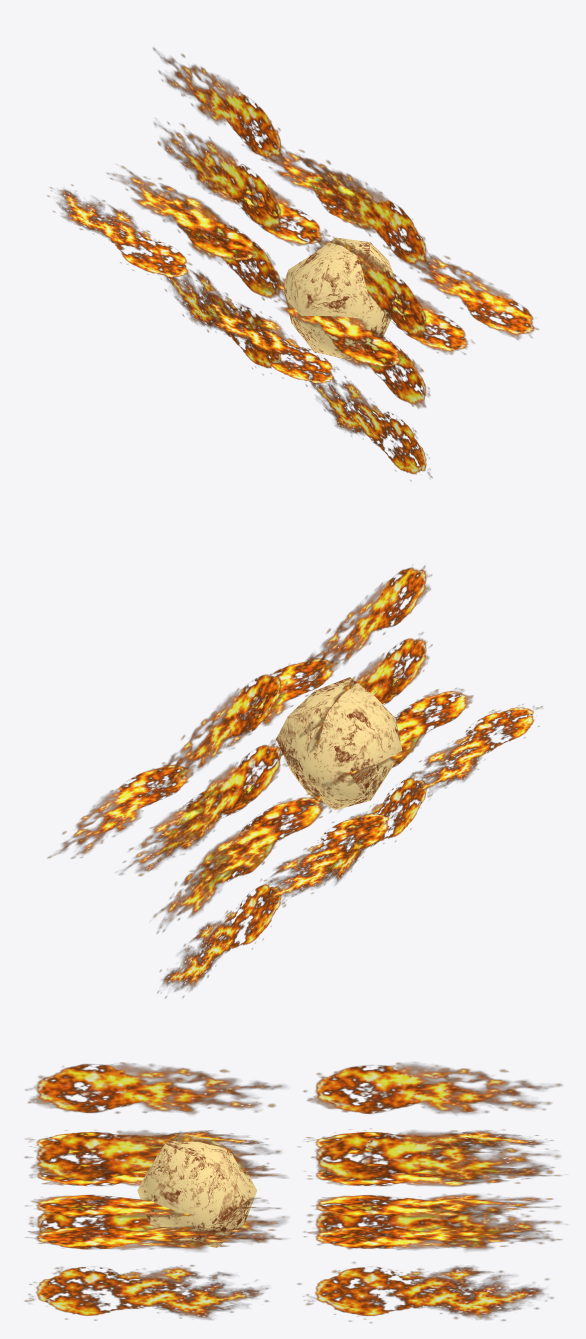
Rendered from projectile_starburst.glb.
3 views of the same model, one above another, from view 1: azimuth 30°, elevation 25°; view 2: azimuth 150°, elevation 25°; view 3: azimuth 270°, elevation 25° (orthographic). The views are drawn at different scales.
Visible parts, largest first — view 1: Starburst; view 2: Starburst; view 3: Starburst.
Part boxes in pixels (x1,y1,x2,y2): Starburst: [47, 47, 538, 481]; Starburst: [47, 566, 542, 998]; Starburst: [25, 1062, 561, 1322].
Size of the model in its own units: 0.67 by 0.67 by 1.26.
2 materials, 2 textured.
